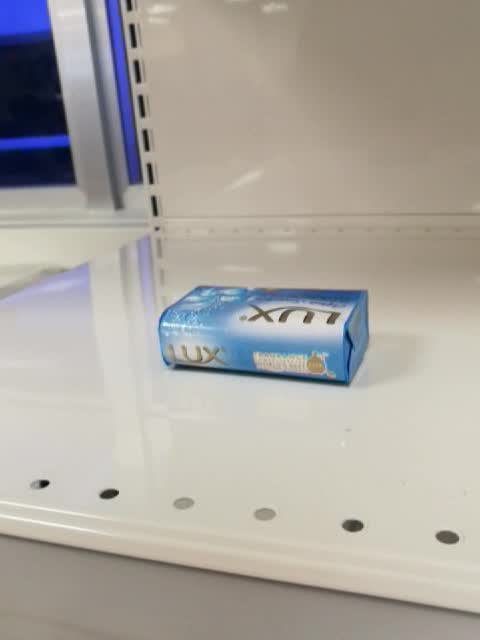soap: (157, 283, 371, 388)
